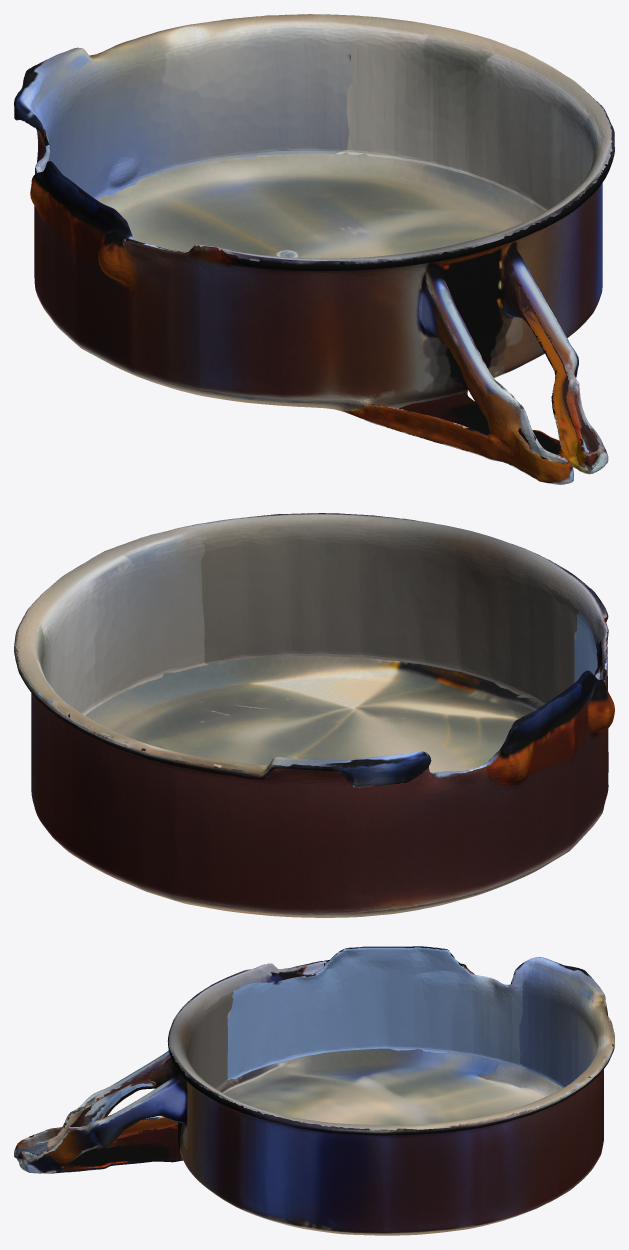
File: image_0001_segmented.glb
3 views of the same model, one above another, from view 1: azimuth 30°, elevation 25°; view 2: azimuth 150°, elevation 25°; view 3: azimuth 270°, elevation 25° (orthographic). The views are drawn at different scales.
Parts seen in each view (by area): view 1: tmpoof5kvk1.ply; view 2: tmpoof5kvk1.ply; view 3: tmpoof5kvk1.ply.
Part boxes in pixels (bbox=[...]): tmpoof5kvk1.ply: bbox=[14, 14, 614, 484]; tmpoof5kvk1.ply: bbox=[14, 513, 614, 917]; tmpoof5kvk1.ply: bbox=[14, 946, 614, 1235].
Bounding box in the file's own units: 1.45 × 0.4822 × 1.99.
Materials: 1 (1 with a texture image).
